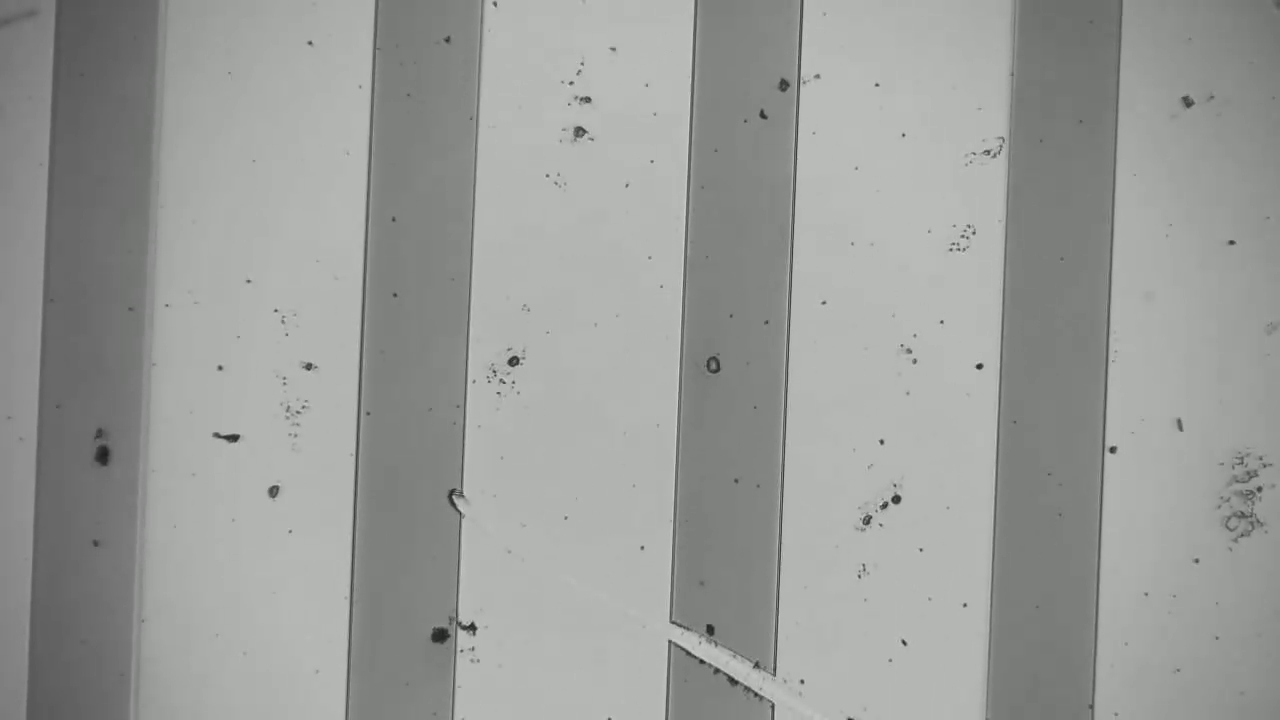Short_circuit: (648, 599, 812, 706)
